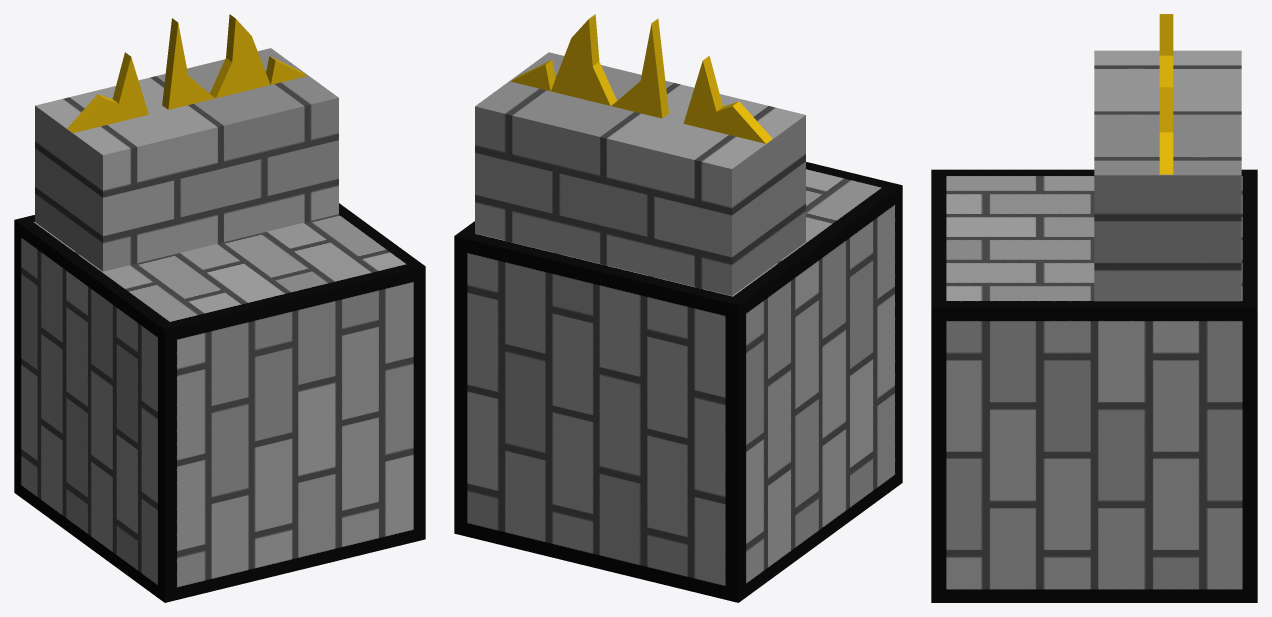
The model's file is WallBrokenCrystalNorth.glb.
The picture shows the model from 3 angles, left to right: view 1: azimuth 30°, elevation 25°; view 2: azimuth 150°, elevation 25°; view 3: azimuth 270°, elevation 25°; orthographic projection. The views are drawn at different scales.
Parts seen in each view (by area): view 1: StoneBricksBaked, StoneBricksBaked.001, Cube.001; view 2: StoneBricksBaked, StoneBricksBaked.001, Cube.001; view 3: StoneBricksBaked, StoneBricksBaked.001, Cube.001.
Part boxes in pixels (x1,y1,x2,y2): StoneBricksBaked: (14,203,425,602); StoneBricksBaked.001: (35,48,338,271); Cube.001: (67,14,306,132); StoneBricksBaked: (454,162,902,602); StoneBricksBaked.001: (475,52,805,295); Cube.001: (511,14,772,143); StoneBricksBaked: (931,169,1257,602); StoneBricksBaked.001: (1094,50,1241,301); Cube.001: (1159,14,1173,174).
Size of the model in its own units: 0.98 by 1.7 by 0.98.
3 materials, 2 textured.
